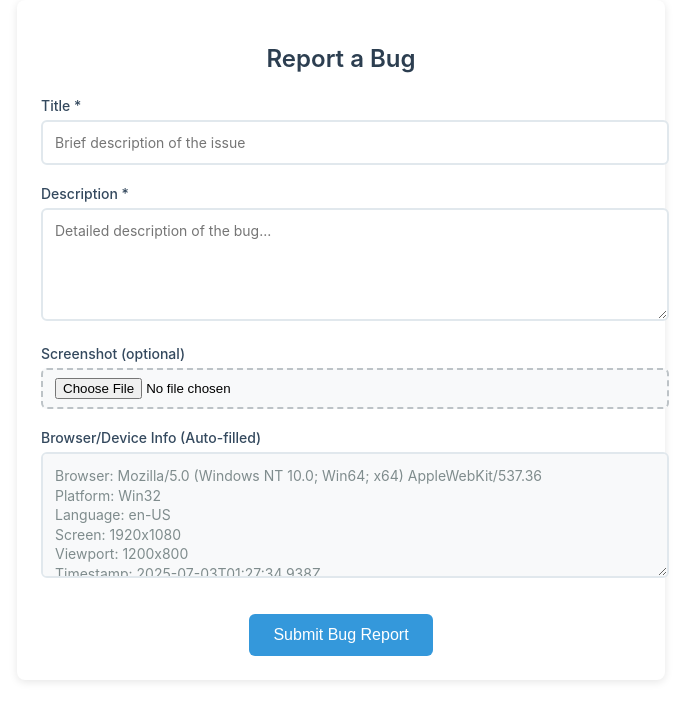
Test case: BugReportForm › Form Submission (Missing Title/Description) › displays validation errors for both title and description when both are missing
The width and height of the screenshot is (689, 720).
Click the button "Submit Bug Report" at (341, 635), box [249,614,433,656]
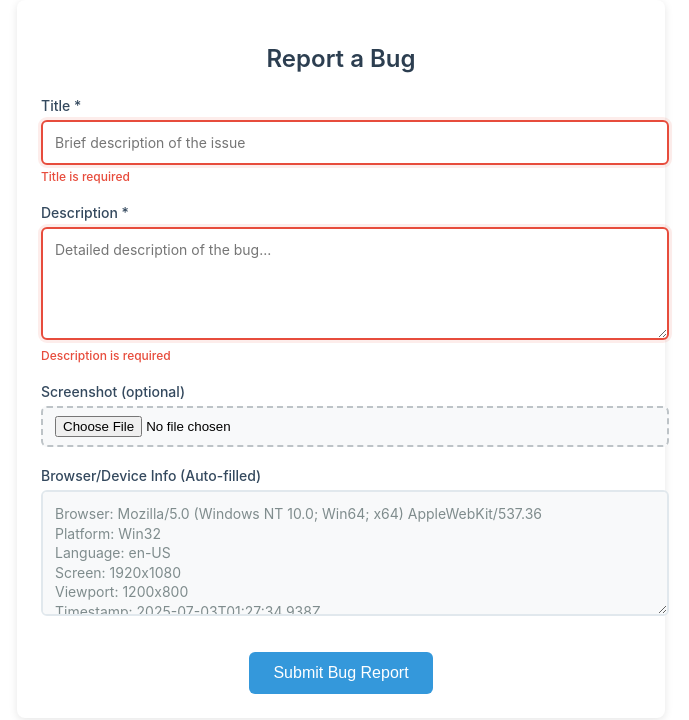
Expected: the text "Title is required" is shown, [41,169,130,184]
Expected: the text "Description is required" is shown, [41,348,171,363]
